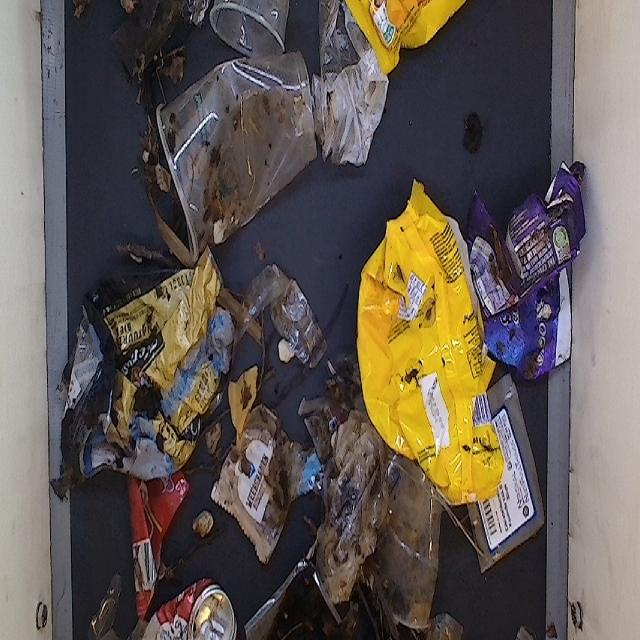drinking_cans: (127, 566, 240, 639)
food_packaging: (344, 0, 494, 62)
food_wrapping: (339, 192, 508, 509), (57, 261, 229, 481), (449, 174, 597, 402), (447, 377, 559, 543), (102, 447, 200, 614), (216, 408, 306, 560)
plastic_cups: (140, 52, 320, 254), (308, 391, 387, 613), (371, 441, 439, 632), (209, 0, 295, 67)
plastic_films: (309, 0, 389, 187), (228, 247, 330, 377)
undef_hard_plastic: (78, 571, 124, 640)
